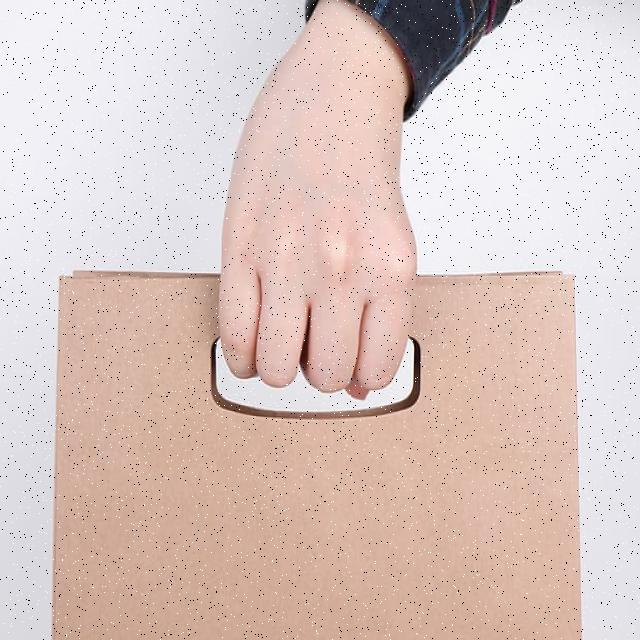paper bag: (53, 264, 581, 640)
